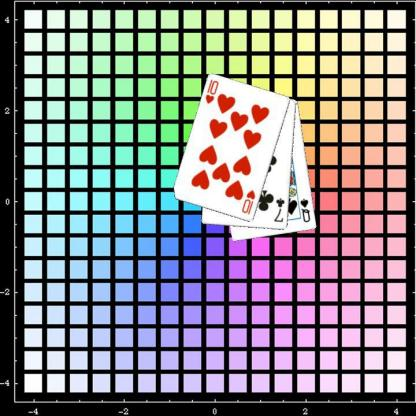10H: (239, 187, 257, 216), (203, 77, 220, 105)
7C: (272, 196, 286, 223)
QS: (298, 196, 312, 223)
